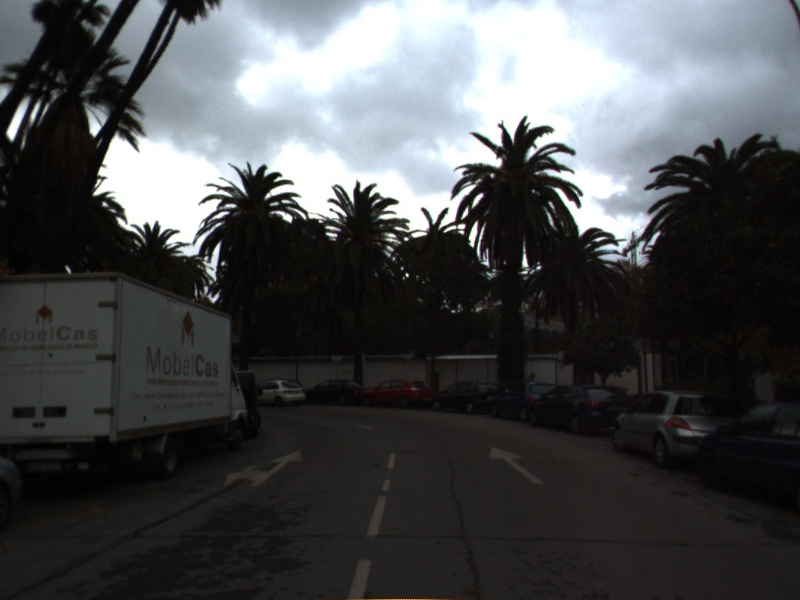STRAIGHT: (487, 444, 546, 486)
STRAIGHT_LEFT: (221, 448, 305, 488)
